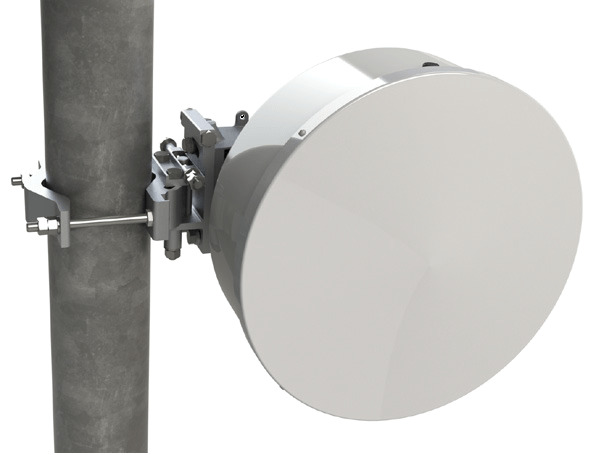ba: (37, 7, 598, 432)
